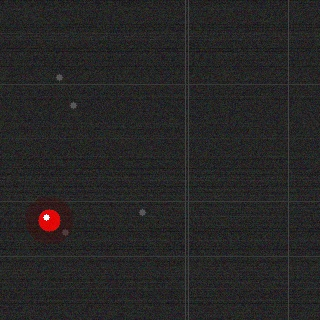red_fault: (36, 207, 62, 233)
